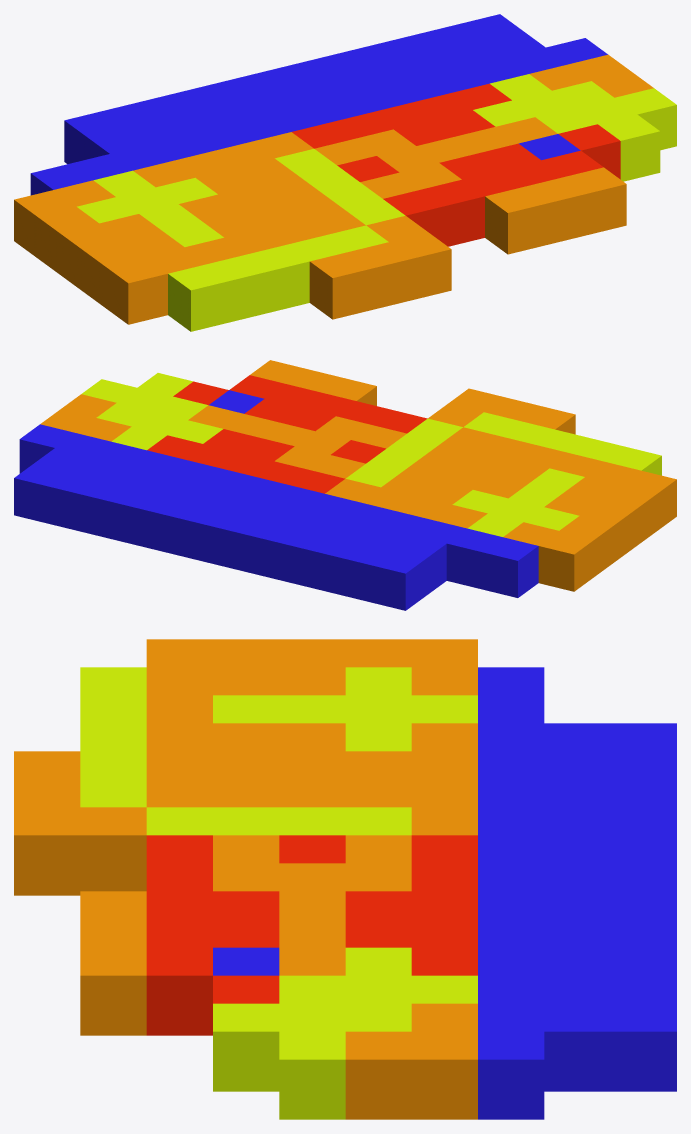
3 renders of one model, top to bottom at view 1: azimuth 30°, elevation 25°; view 2: azimuth 150°, elevation 25°; view 3: azimuth 270°, elevation 25°, orthographic. The views are drawn at different scales.
Visible parts, largest first — view 1: Cube, Cube.006, Cube.015, Cube.022, Cube.036, Cube.021, Cube.008, Cube.002, Cube.001, Cube.007, Cube.023, Cube.017 (+107 smaller); view 2: Cube.086, Cube.112, Cube.074, Cube.116, Cube.119, Cube.087, Cube.117, Cube.109, Cube.113, Cube.114, Cube.115, Cube.110 (+107 smaller); view 3: Cube.021, Cube.052, Cube.002, Cube.107, Cube.016, Cube.036, Cube.067, Cube.082, Cube.096, Cube.118, Cube.005, Cube.004 (+107 smaller).
Part boxes in pixels (bbox=[...]): Cube: bbox=[309, 252, 372, 319]; Cube.006: bbox=[168, 264, 230, 331]; Cube.015: bbox=[105, 257, 167, 324]; Cube.022: bbox=[485, 186, 547, 254]; Cube.036: bbox=[598, 114, 660, 181]; Cube.021: bbox=[564, 167, 626, 234]; Cube.008: bbox=[247, 244, 309, 312]; Cube.002: bbox=[389, 232, 451, 300]; Cube.001: bbox=[349, 242, 411, 309]; Cube.007: bbox=[208, 254, 269, 321]; Cube.023: bbox=[525, 177, 586, 244]; Cube.017: bbox=[423, 179, 484, 246]; Cube.086: bbox=[482, 537, 538, 597]; Cube.112: bbox=[370, 550, 426, 610]; Cube.074: bbox=[538, 531, 594, 591]; Cube.116: bbox=[120, 489, 176, 549]; Cube.119: bbox=[49, 471, 105, 532]; Cube.087: bbox=[446, 528, 502, 589]; Cube.117: bbox=[227, 515, 283, 575]; Cube.109: bbox=[334, 541, 389, 601]; Cube.113: bbox=[85, 480, 140, 541]; Cube.114: bbox=[192, 506, 247, 567]; Cube.115: bbox=[156, 498, 212, 558]; Cube.110: bbox=[299, 532, 354, 593]; Cube.021: bbox=[80, 947, 146, 1035]; Cube.052: bbox=[279, 1031, 345, 1119]; Cube.002: bbox=[14, 807, 80, 895]; Cube.107: bbox=[544, 1003, 610, 1091]; Cube.016: bbox=[146, 947, 212, 1035]; Cube.036: bbox=[213, 1003, 279, 1091]; Cube.067: bbox=[345, 1031, 411, 1119]; Cube.082: bbox=[411, 1031, 477, 1119]; Cube.096: bbox=[478, 1031, 544, 1119]; Cube.118: bbox=[610, 1003, 676, 1091]; Cube.005: bbox=[80, 807, 146, 891]; Cube.004: bbox=[80, 779, 146, 807].
Bounding box in the file's own units: 1500 × 100 × 1000.
